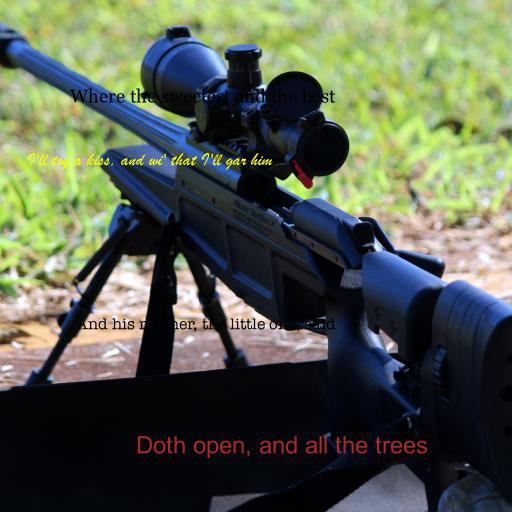American Typewriter: (76, 318, 336, 333)
Arial: (136, 436, 428, 459)
Brush Script MT: (26, 152, 272, 170)
Georgia: (69, 88, 335, 103)
